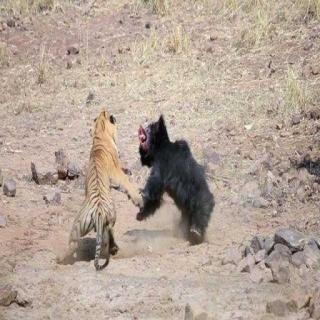Tiger: (69, 88, 130, 275)
